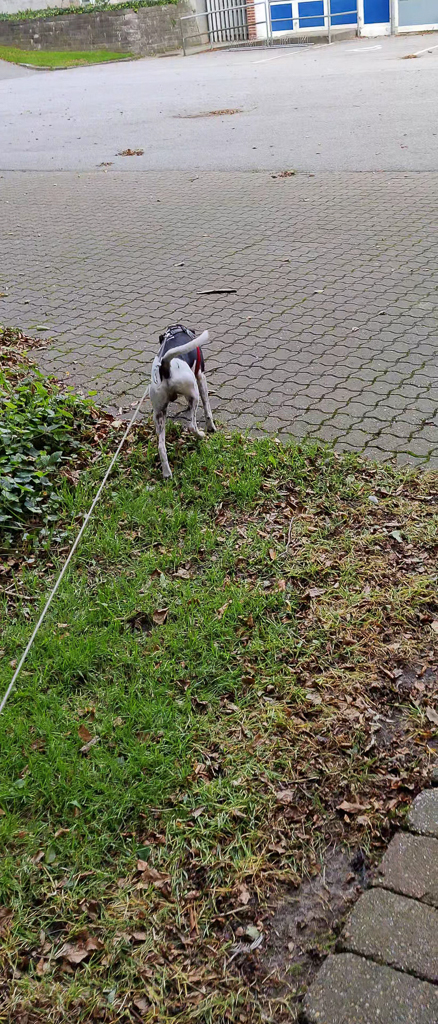Dog: (134, 310, 241, 495)
